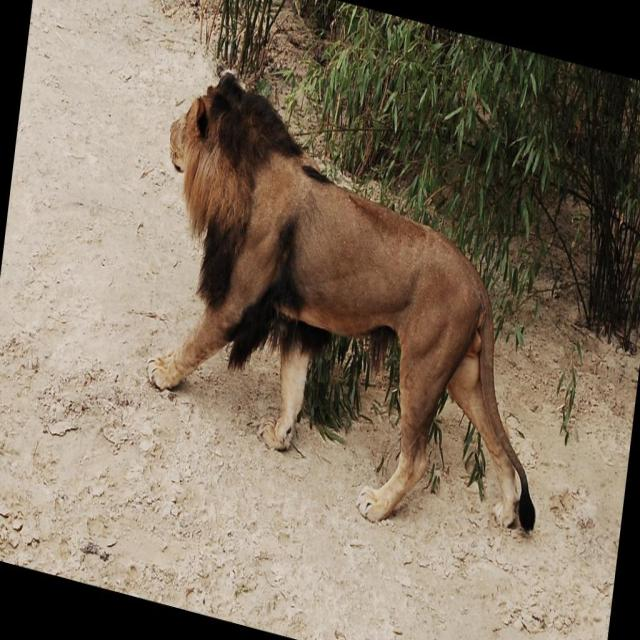Lion: (134, 53, 580, 564)
